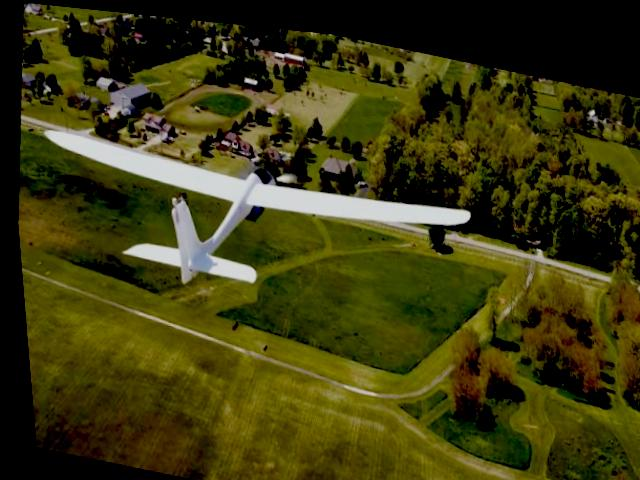iha: (24, 105, 481, 332)
